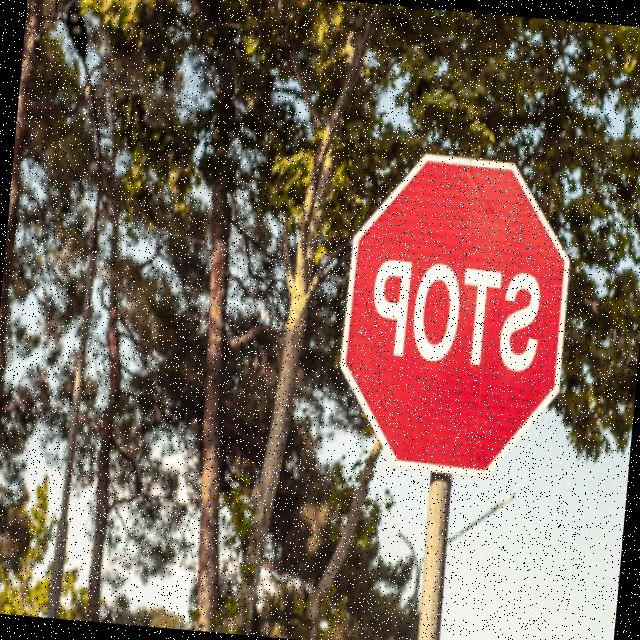stop: (322, 144, 584, 490)
